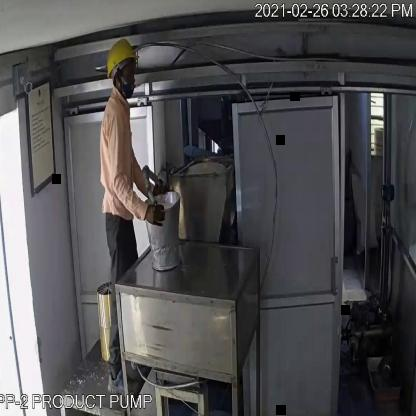helmet: (102, 40, 144, 78)
